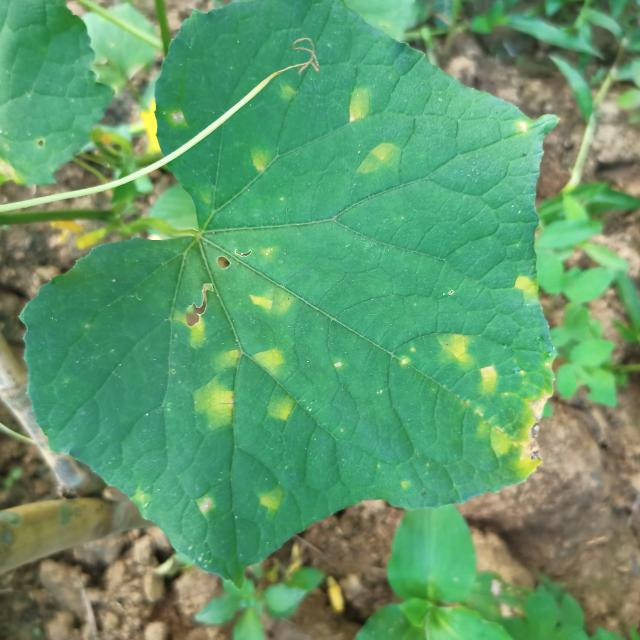disease_cucumber: (180, 237, 306, 444), (431, 330, 555, 482), (344, 78, 401, 180), (236, 135, 288, 182), (256, 482, 296, 522), (512, 271, 542, 312)
